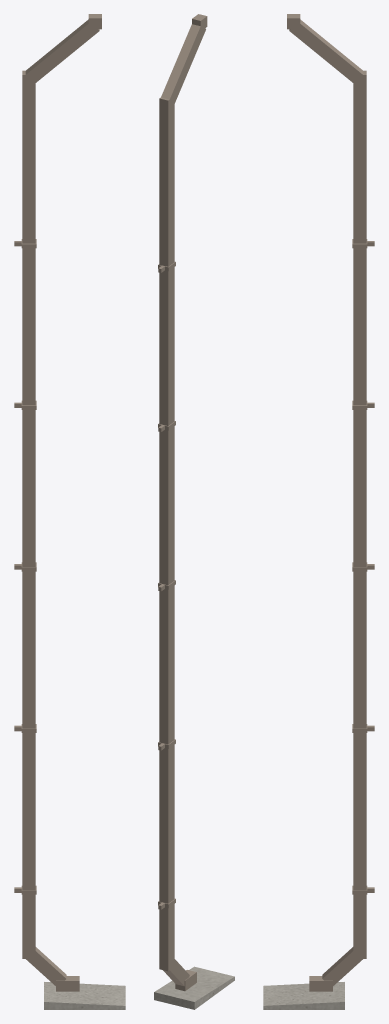
The model's file is downspout.glb.
The picture shows the model from 3 angles, left to right: view 1: azimuth 90°, elevation 25°; view 2: azimuth 150°, elevation 25°; view 3: azimuth 270°, elevation 25°; orthographic projection.
Parts seen in each view (by area): view 1: downspout_gutter, downspout_concrete; view 2: downspout_gutter, downspout_concrete; view 3: downspout_gutter, downspout_concrete.
Boxes of the visible parts, x1,y1,x2,y2 form: downspout_gutter: (14,14,101,991); downspout_concrete: (44,982,125,1009); downspout_gutter: (158,14,207,991); downspout_concrete: (154,966,234,1009); downspout_gutter: (287,14,374,991); downspout_concrete: (263,982,344,1009).
Bounding box in the file's own units: 0.32 × 7.3 × 0.75.
2 materials, 1 textured.
